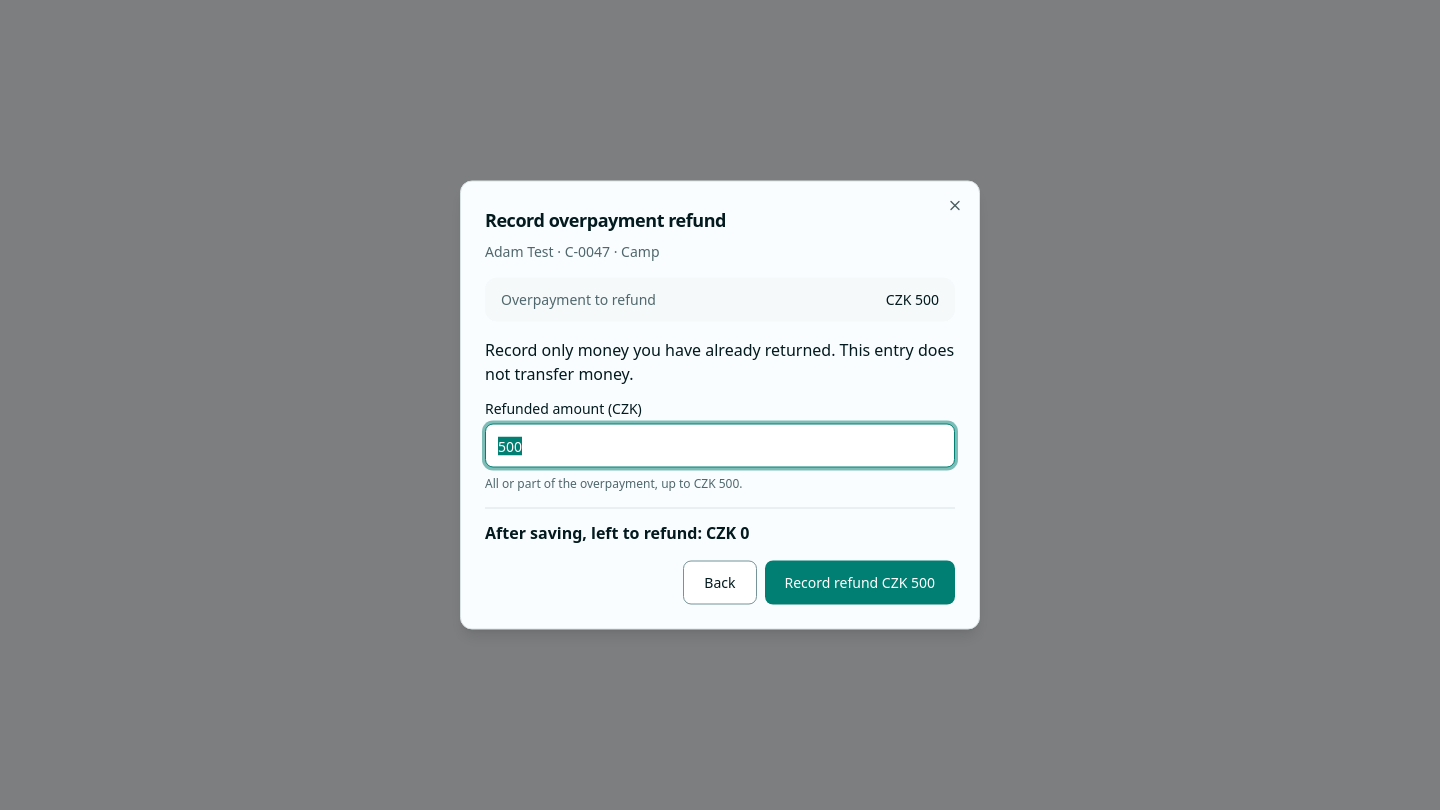
Test case: PaymentEditor › blocks invalid refund 501
Replace the text in the field labelled "Refunded amount (CZK)" with "501" at (720, 446), box [485, 424, 955, 468]
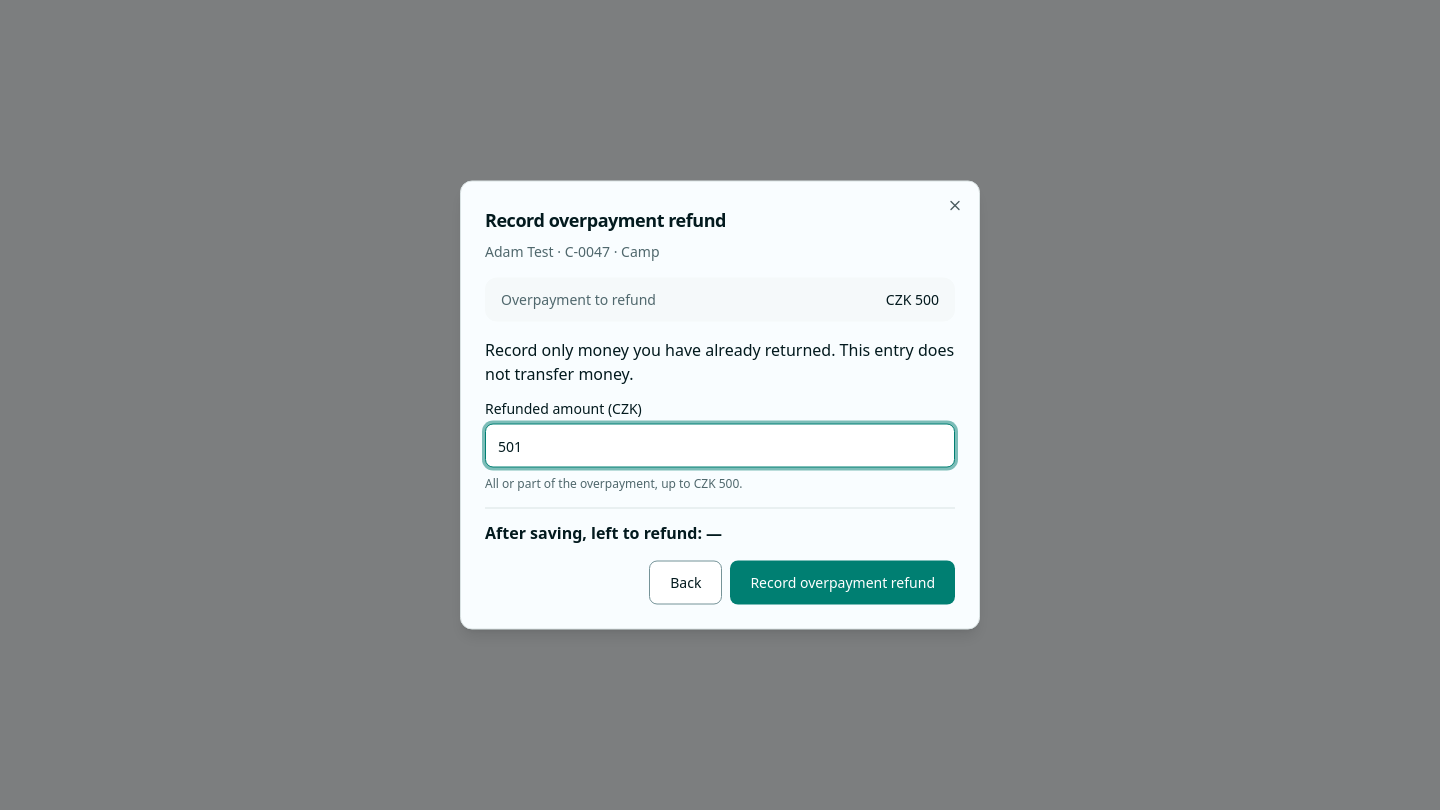
Click the button "Record overpayment refund" at (843, 582), box [730, 560, 955, 604]
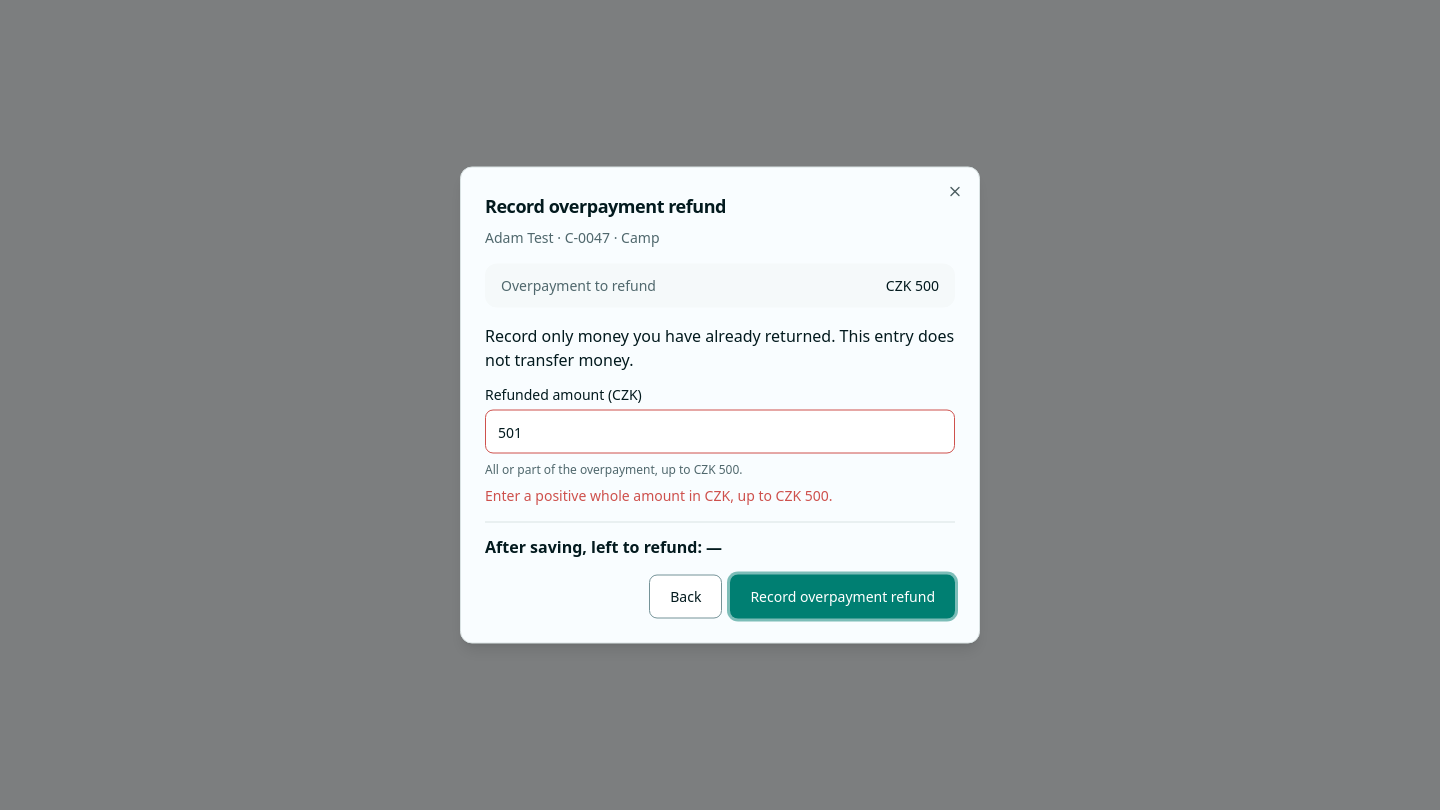
Result: the message reads "Enter a positive whole amount in CZK, up to CZK 500." at [485, 486, 832, 504]
